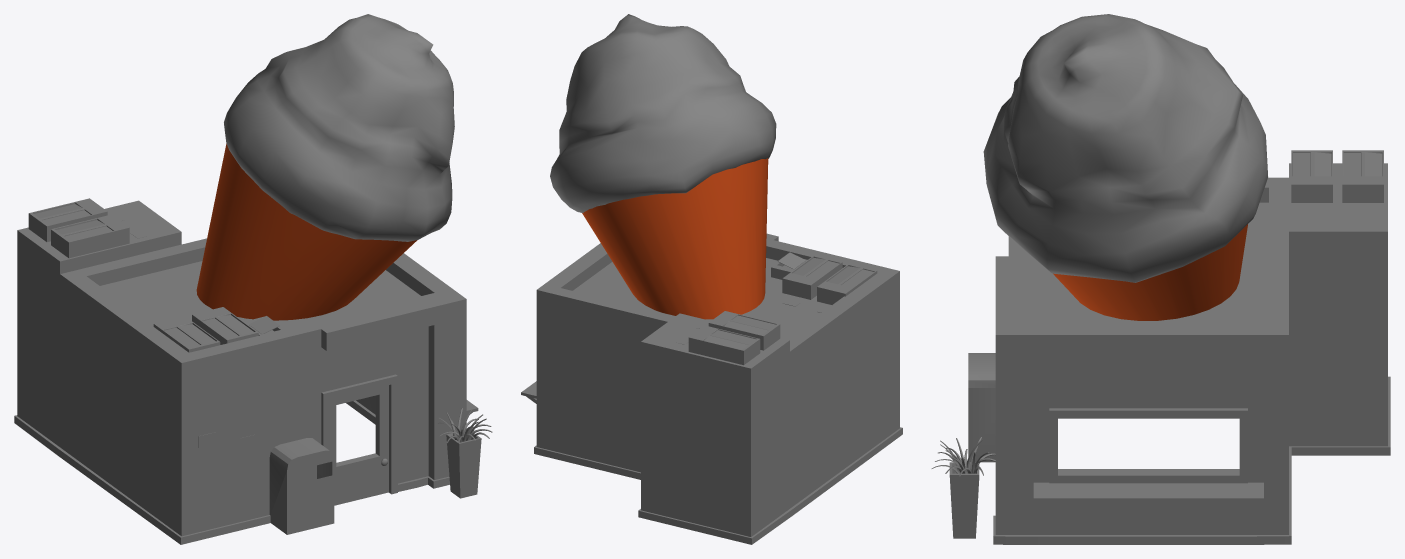
The model's file is DondurmaLvl3.FBX.
The picture shows the model from 3 angles, left to right: view 1: azimuth 30°, elevation 25°; view 2: azimuth 150°, elevation 25°; view 3: azimuth 270°, elevation 25°; orthographic projection. The views are drawn at different scales.
Visible parts, largest first — view 1: HamburgerLvl005, Donudurma; view 2: HamburgerLvl005, Donudurma; view 3: HamburgerLvl005, Donudurma.
Boxes of the visible parts, bbox=[...] form: HamburgerLvl005: bbox=[14, 198, 492, 544]; Donudurma: bbox=[196, 14, 454, 320]; HamburgerLvl005: bbox=[521, 233, 902, 544]; Donudurma: bbox=[550, 14, 776, 319]; HamburgerLvl005: bbox=[931, 150, 1390, 544]; Donudurma: bbox=[983, 14, 1267, 320].
Size of the model in its own units: 389 by 509 by 430.
